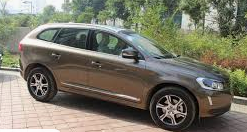car: (17, 23, 231, 130)
